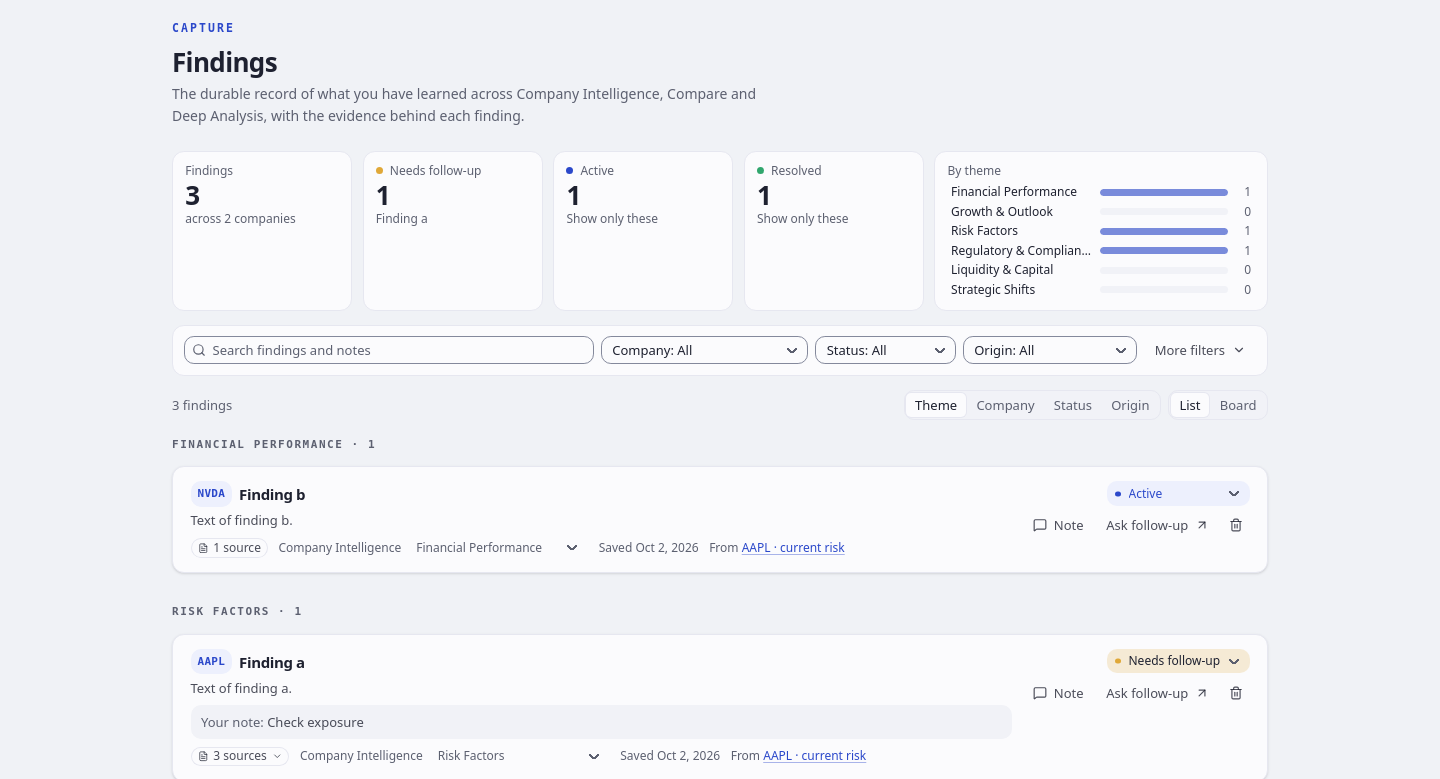
Test: Findings: every control one click away (list and Board) › Board: a note being edited survives a status change that moves its card
The width and height of the screenshot is (1440, 779).
Click the radio button labelled "Board" at (1238, 405), box [1211,392,1265,417]
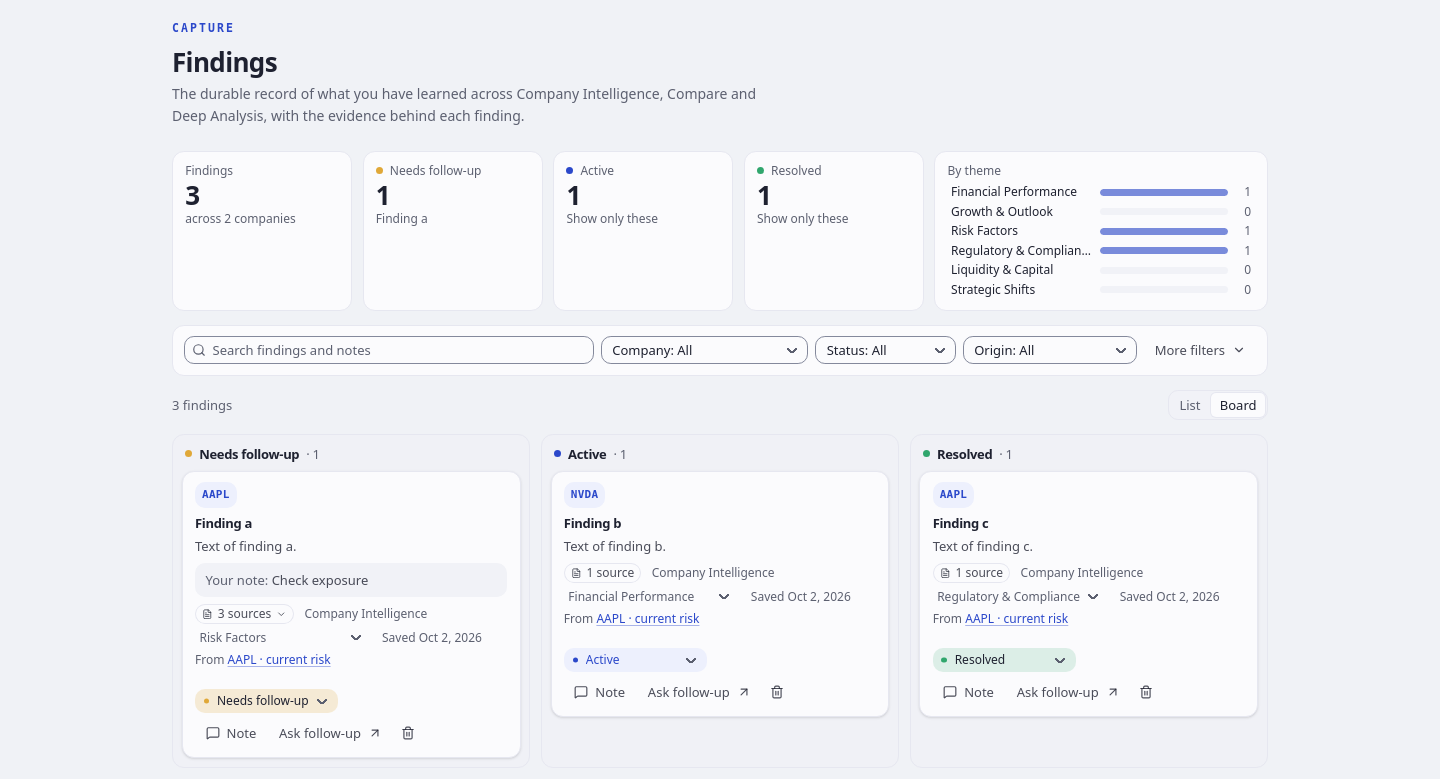
Click the button with aria-label "Edit note" at (600, 692), box [564,678,636,706]
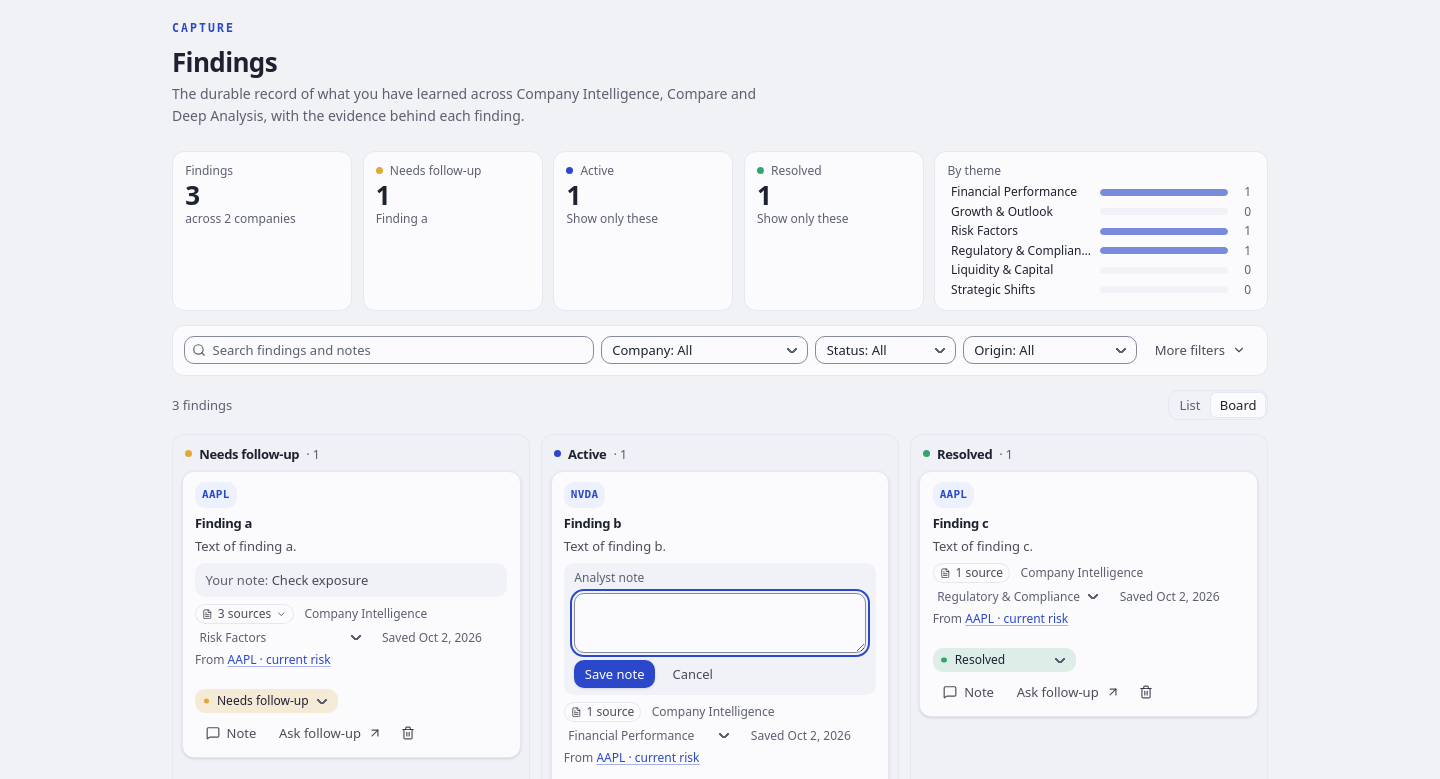
Type "Draft in progress" into the text box labelled "Analyst note" at (720, 623), box [574,593,866,653]
(page scrolled)
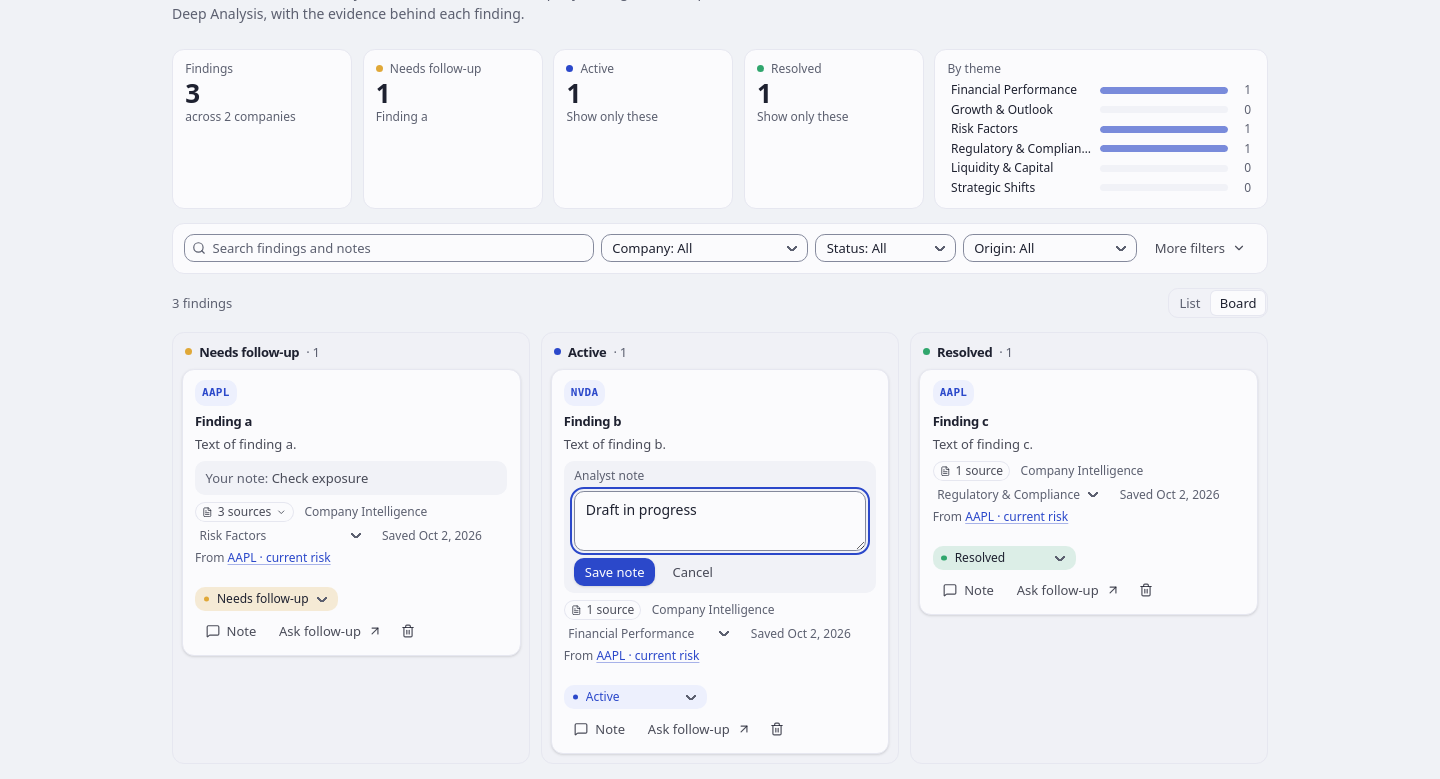
Select "Resolved" in the 9th dropdown named "Status for Finding b" at (635, 697), box [564,685,707,709]
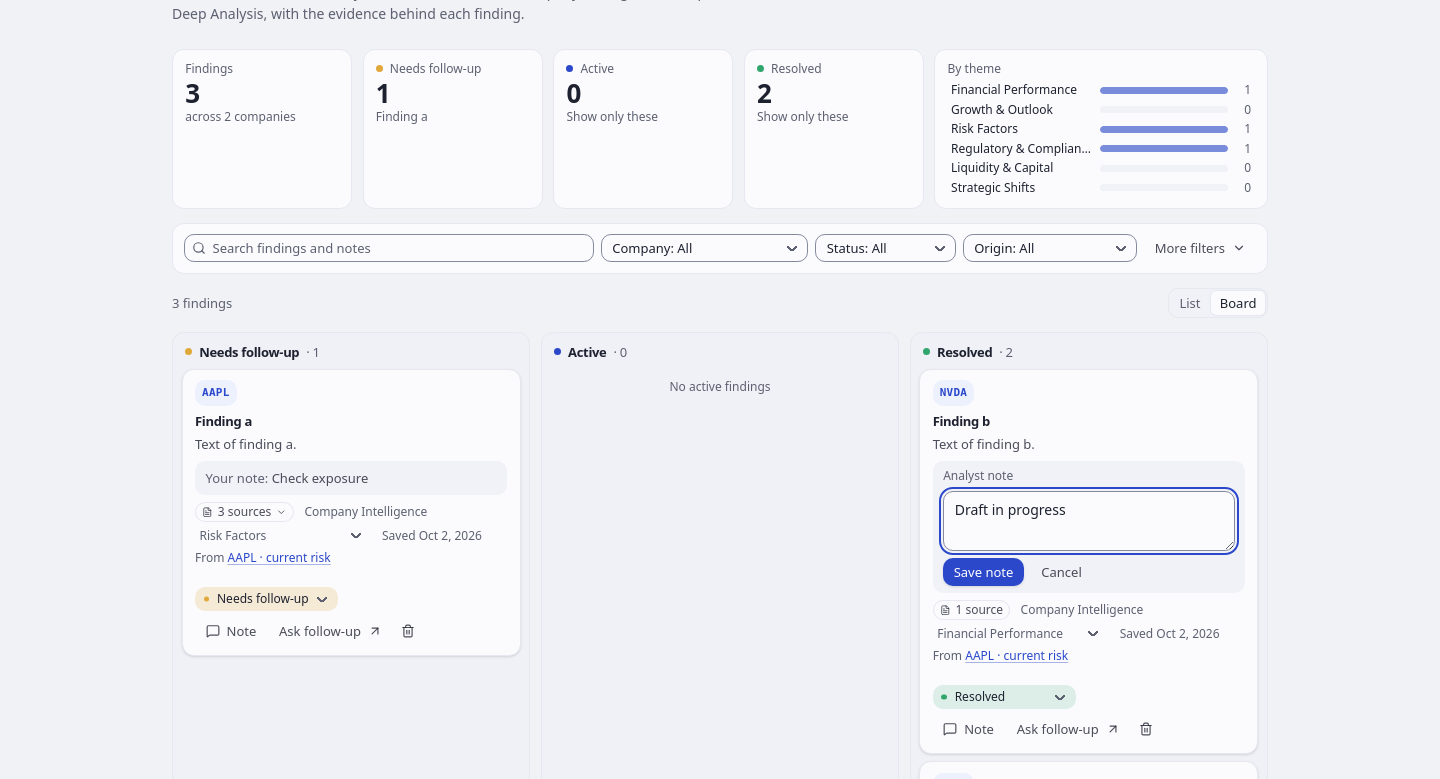
Result: the heading "Finding b" is shown at [933,412,990,430]
Result: the text box labelled "Analyst note" holds "Draft in progress" at [943,491,1234,551]
